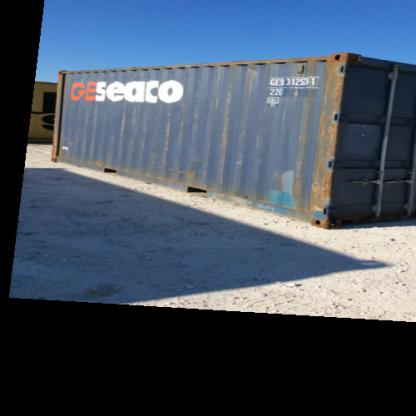Damage: (291, 50, 344, 228), (210, 89, 234, 187), (114, 88, 148, 155), (159, 99, 186, 175), (77, 96, 101, 160), (237, 65, 266, 102), (252, 125, 265, 186), (57, 134, 72, 158)
